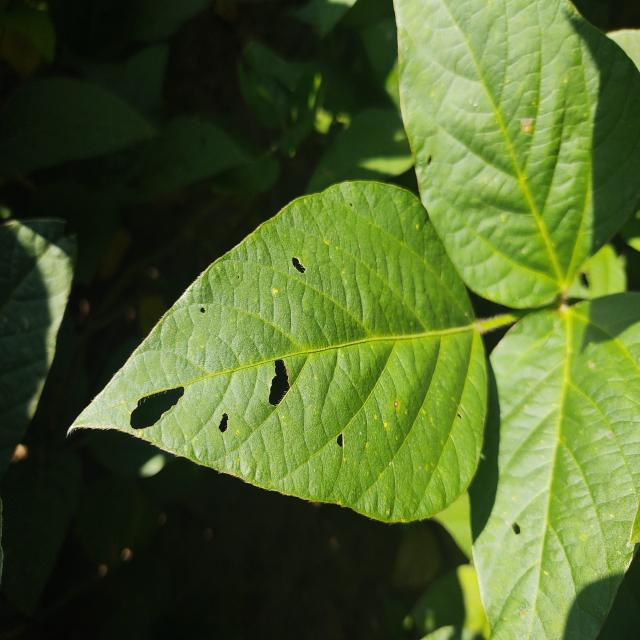Soybean: (0, 0, 640, 640)
downey_mildew: (129, 385, 187, 430), (258, 350, 297, 411), (291, 256, 306, 274), (218, 412, 229, 433), (335, 431, 344, 449), (510, 521, 521, 535)
